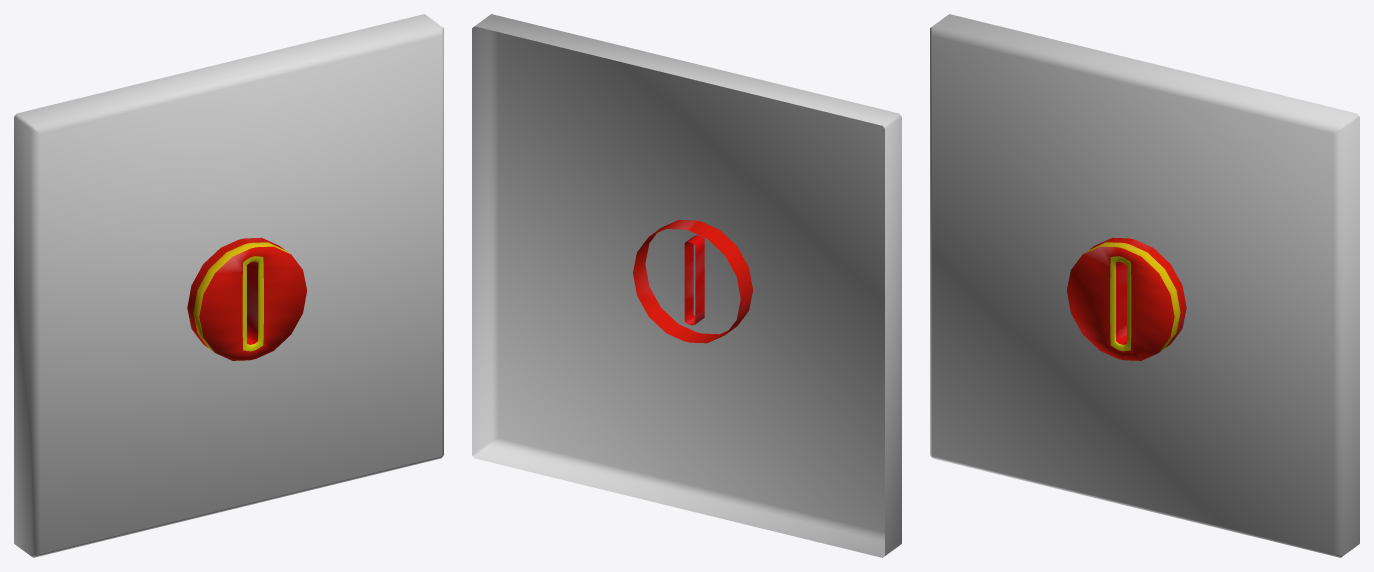
File: mod_keys_T.fbx
3 views of the same model, side by side, from view 1: azimuth 30°, elevation 25°; view 2: azimuth 150°, elevation 25°; view 3: azimuth 330°, elevation 25° (orthographic).
Parts seen in each view (by area): view 1: module_base11, lock; view 2: module_base11, lock; view 3: module_base11, lock.
Part boxes in pixels (x1,y1,x2,y2): module_base11: (14, 14, 443, 557); lock: (187, 237, 306, 360); module_base11: (472, 14, 901, 557); lock: (633, 220, 752, 343); module_base11: (930, 14, 1359, 557); lock: (1067, 237, 1186, 360).
Bounding box in the file's own units: 6 × 6 × 0.8222.
